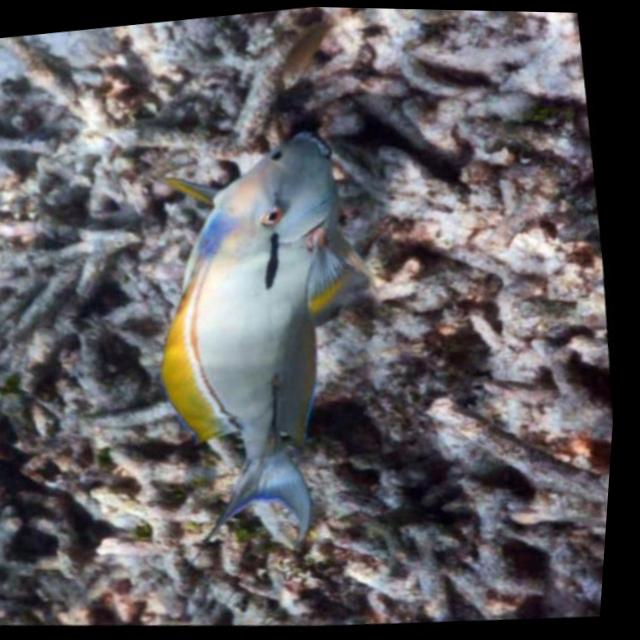Dead Coral: (271, 5, 640, 640), (0, 12, 271, 640)
